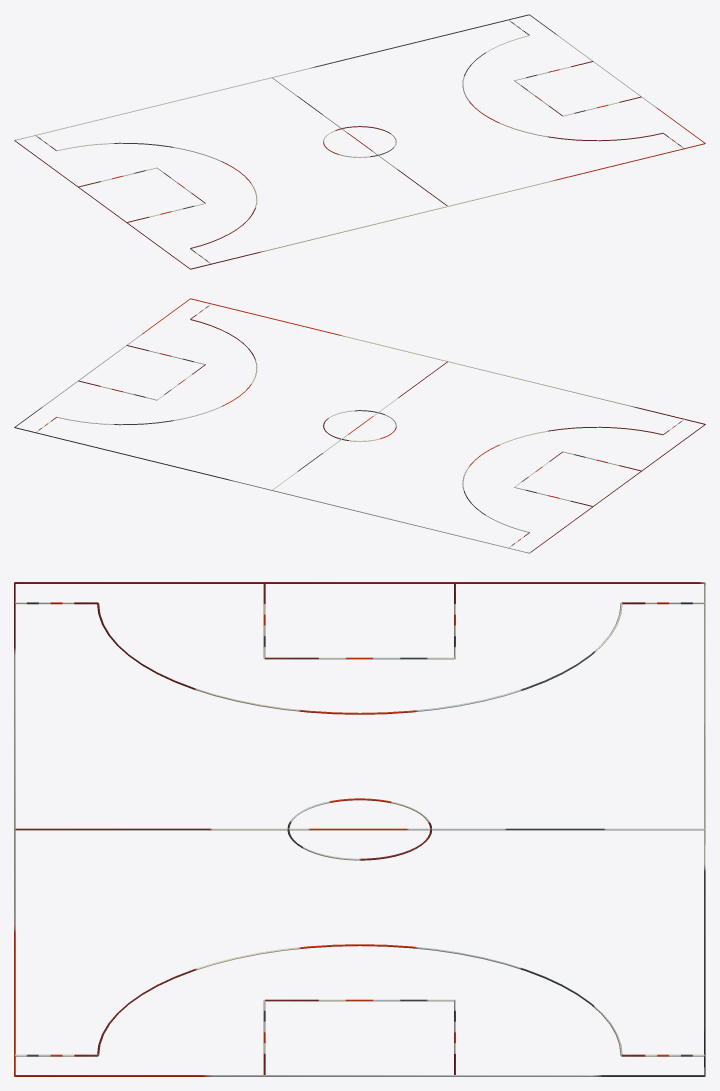
File: court_paint_100x60.glb
3 renders of one model, top to bottom at view 1: azimuth 30°, elevation 25°; view 2: azimuth 150°, elevation 25°; view 3: azimuth 270°, elevation 25°, orthographic. The views are drawn at different scales.
Visible parts, largest first — view 1: court_paint_100x60; view 2: court_paint_100x60; view 3: court_paint_100x60.
Part boxes in pixels (<box>): court_paint_100x60: <box>14,14,705,269</box>; court_paint_100x60: <box>14,298,705,553</box>; court_paint_100x60: <box>14,582,705,1076</box>.
Size of the model in its own units: 98.15 by 0.18 by 58.15.
Materials: 1 (1 with a texture image).
